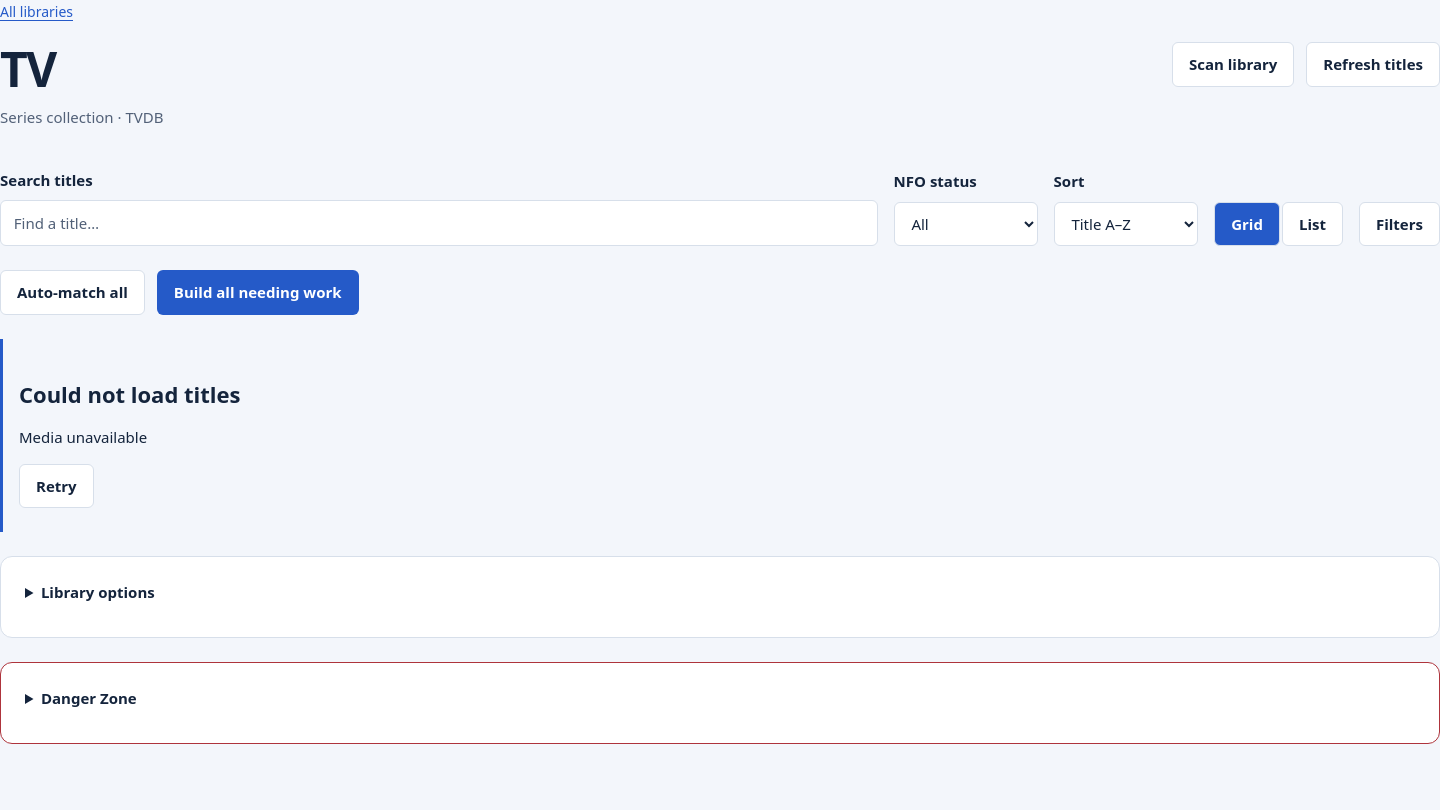
a failed library query exposes error and Retry loads the view
Expected: the message "Could not load titles Media unavailable Retry" is shown, [0,339,1439,532]
What coordinates should you click on to do the following:
click the button "Retry"
I would click on:
 (56, 486)
Its box is [19,464,94,508].
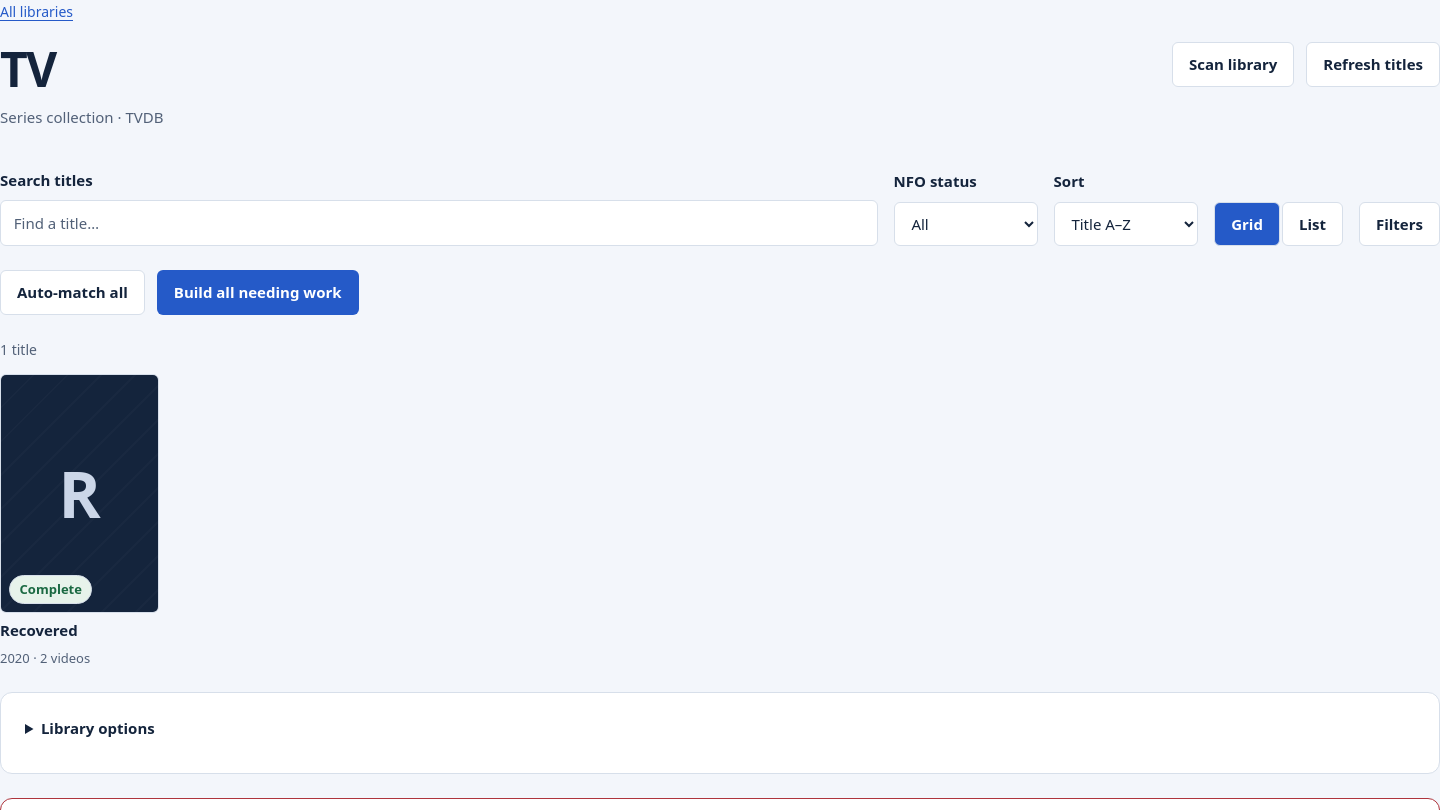
Expected: the link "R Complete Recovered 2020 · 2 videos" is shown, [0,374,159,668]
